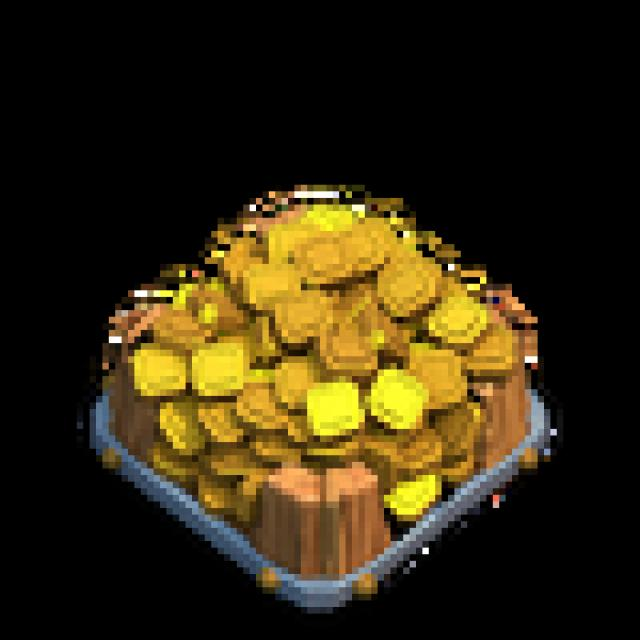gold_storage: (51, 181, 592, 640)
